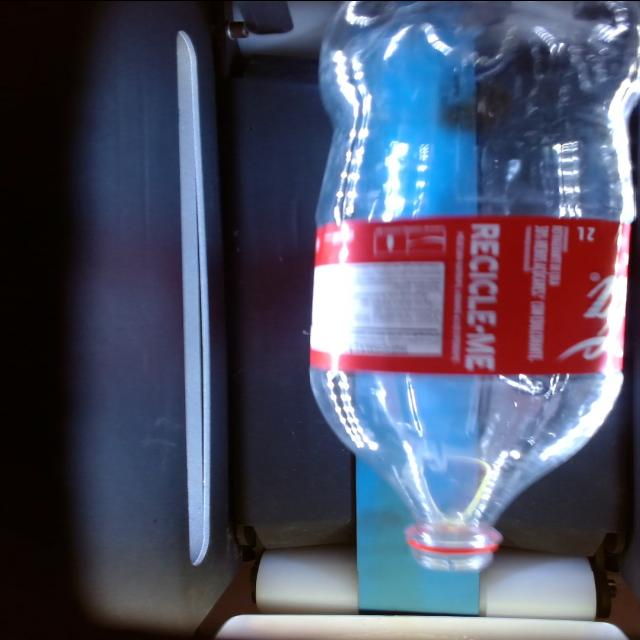bottle: (311, 0, 635, 570)
